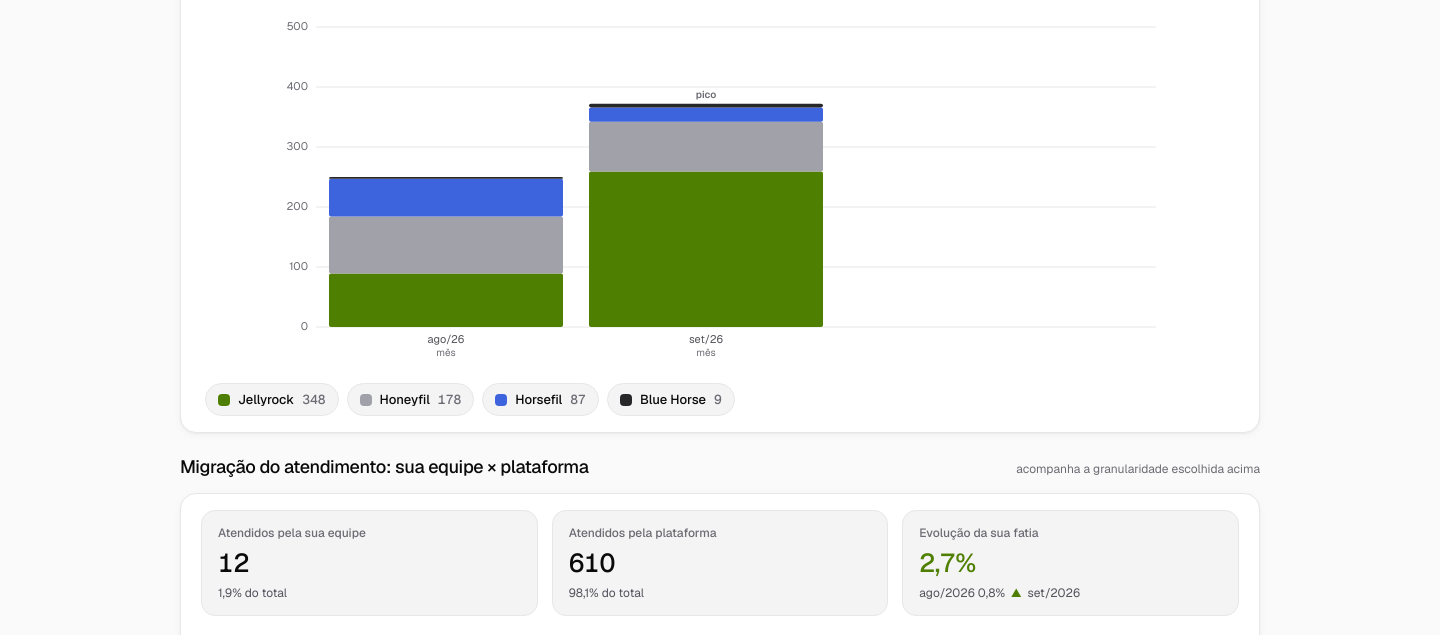
Test: DashboardRefundsComparativo › clicar no produto da legenda tira ele da conta
This screenshot has width=1440, height=635.
(page scrolled)
Click the button "Jellyrock 348": x=272, y=400 [205,383,339,416]
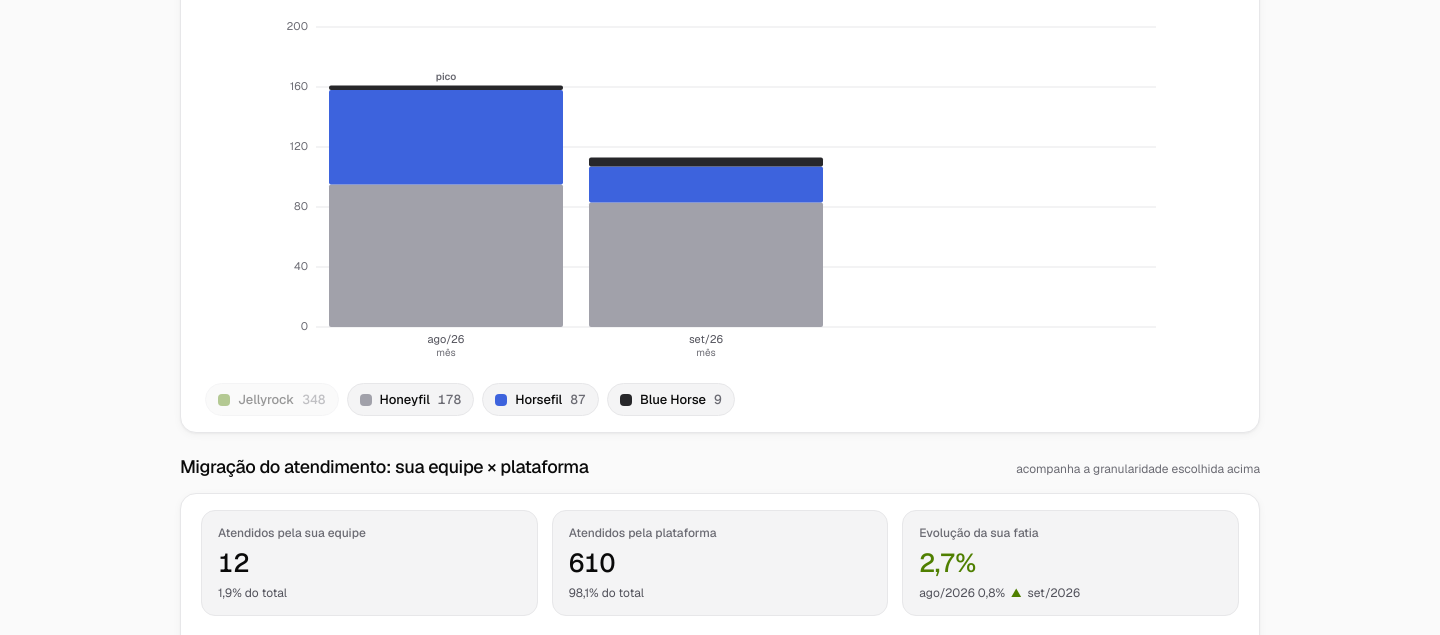
Expected: the button "Jellyrock 348" is not pressed, [205,383,339,416]
